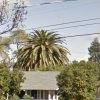Tree: (13, 23, 70, 68)
